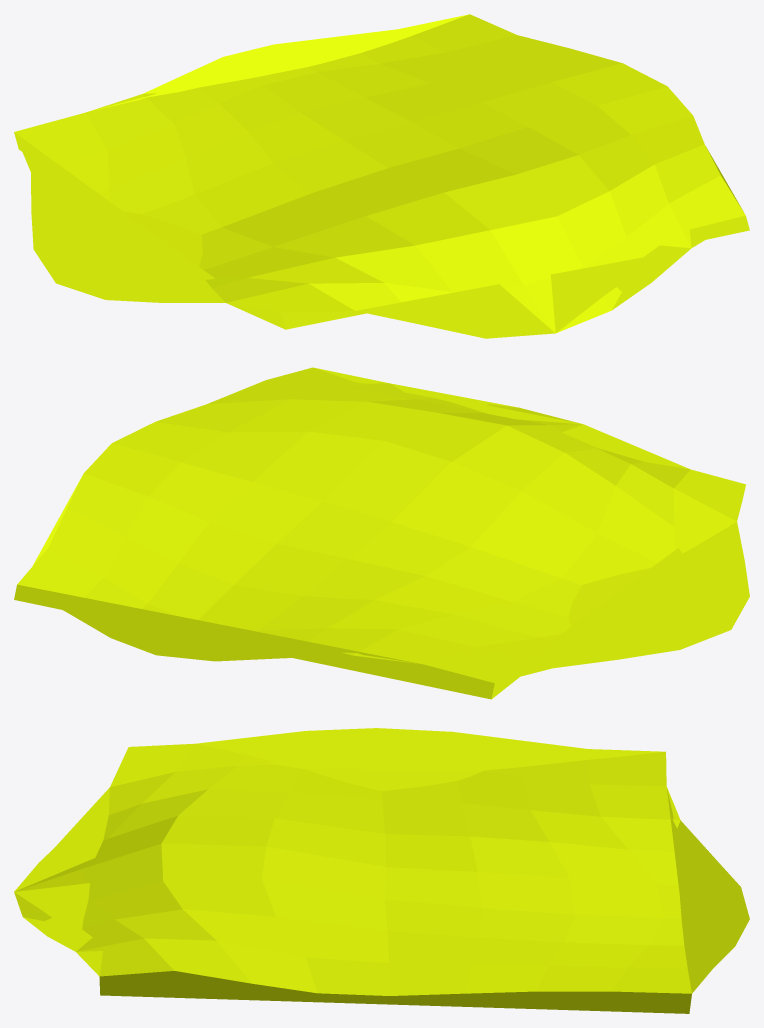
The model's file is hot-sauce.gltf.
3 renders of one model, top to bottom at view 1: azimuth 30°, elevation 25°; view 2: azimuth 150°, elevation 25°; view 3: azimuth 270°, elevation 25°, orthographic. The views are drawn at different scales.
Visible parts, largest first — view 1: Plane.001; view 2: Plane.001; view 3: Plane.001.
Boxes of the visible parts, left/top/right/bottom form: Plane.001: left=14, top=14, right=749, bottom=338; Plane.001: left=14, top=367, right=749, bottom=699; Plane.001: left=14, top=728, right=749, bottom=1013.
Bounding box in the file's own units: 2.2 × 0.1751 × 2.2.
